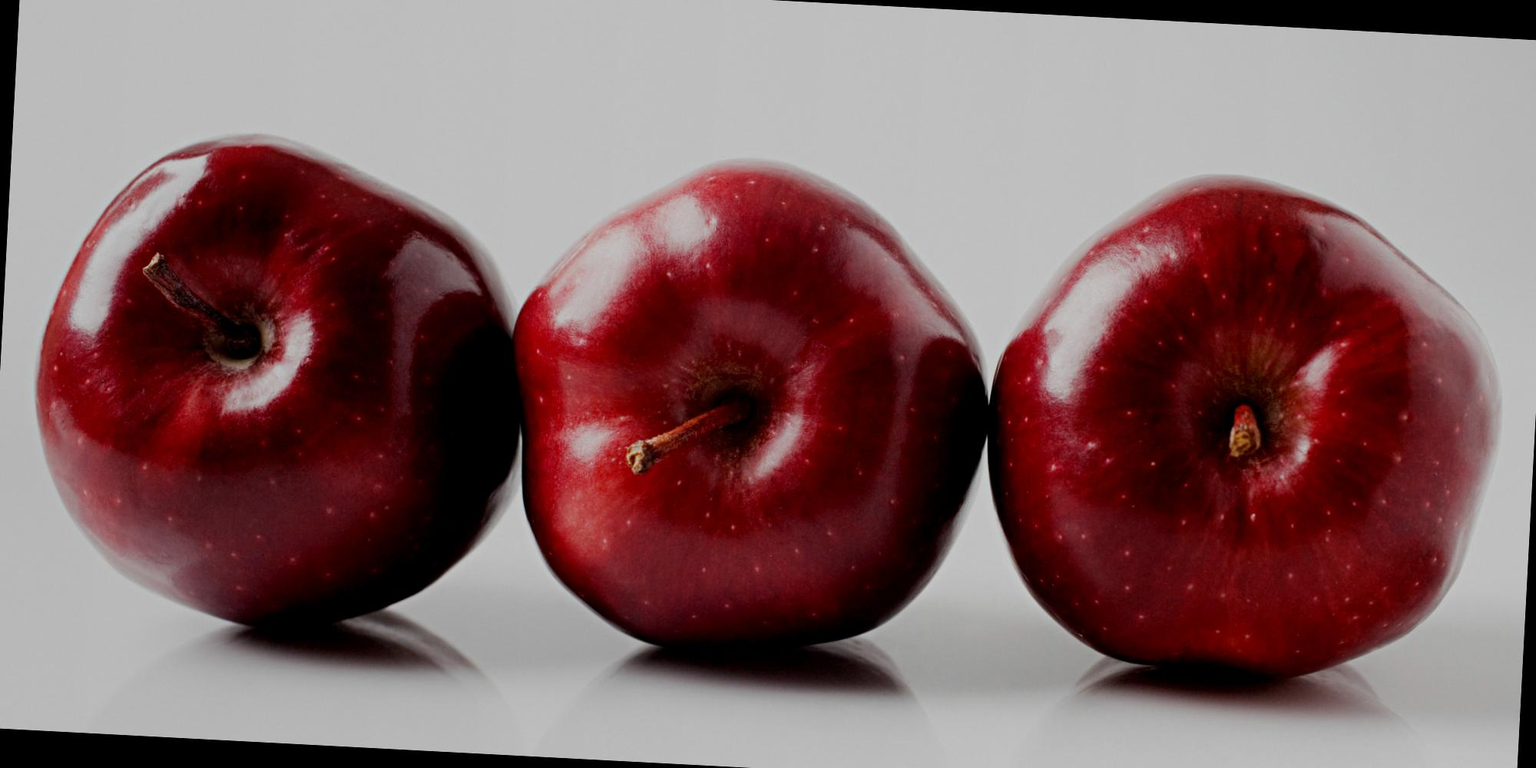Apple Ripe: (983, 139, 1533, 715), (494, 110, 998, 689), (21, 89, 536, 647)
